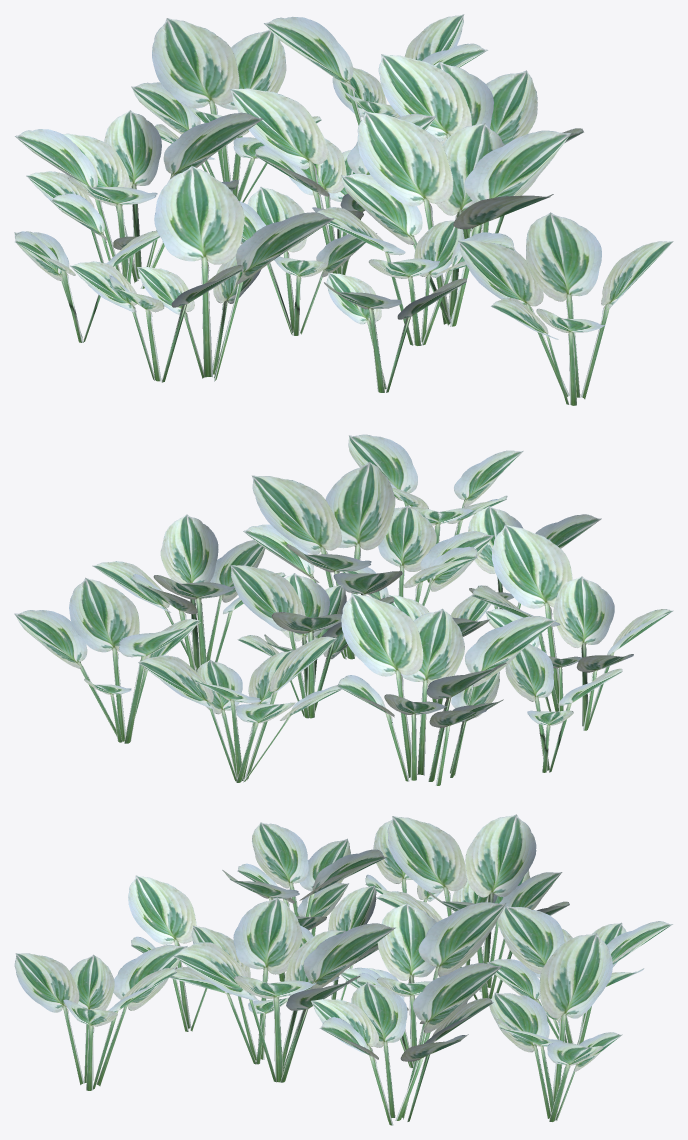
File: cluster_plant_small_wg_01.fbx
3 renders of one model, top to bottom at view 1: azimuth 30°, elevation 25°; view 2: azimuth 150°, elevation 25°; view 3: azimuth 270°, elevation 25°, orthographic. The views are drawn at different scales.
Visible parts, largest first — view 1: cluster_plant_small_wg_01; view 2: cluster_plant_small_wg_01; view 3: cluster_plant_small_wg_01.
Boxes of the visible parts, x1,y1,x2,y2 form: cluster_plant_small_wg_01: (14,14,673,405); cluster_plant_small_wg_01: (14,434,673,785); cluster_plant_small_wg_01: (14,814,672,1125).
Bounding box in the file's own units: 174 × 49.81 × 204.
